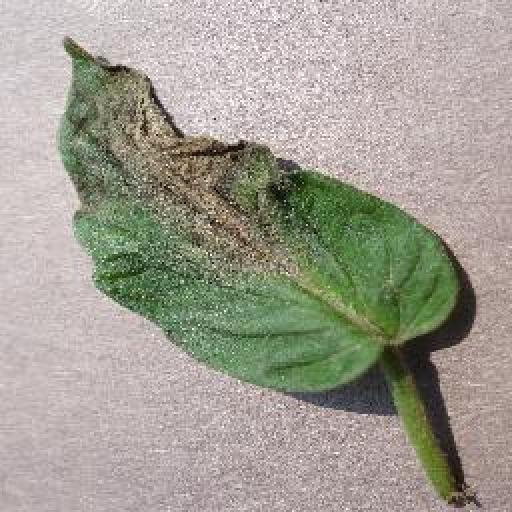disease_tomato: (56, 36, 456, 397)
